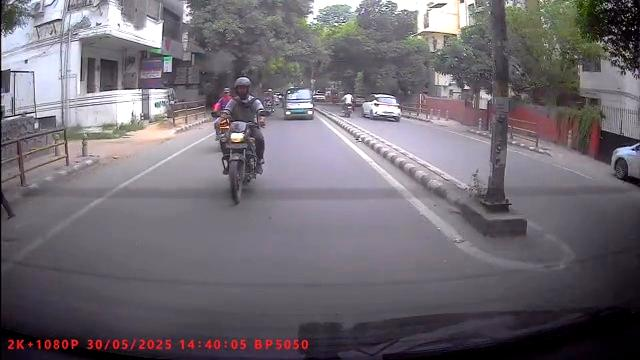motorcycle_with_helmet: (215, 74, 269, 206)
